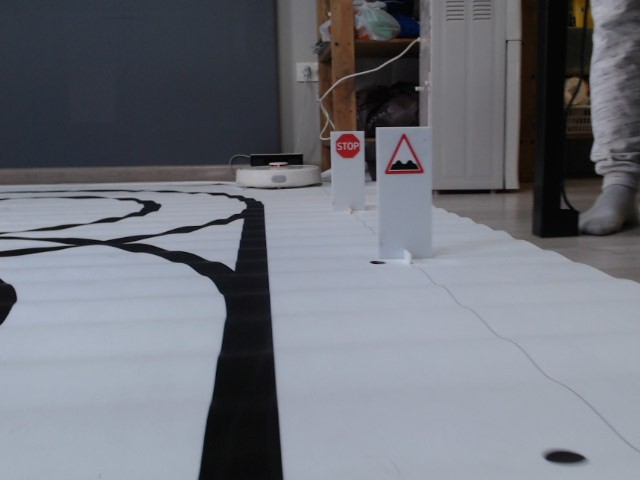Nerov: (379, 134, 427, 178)
Stop: (332, 132, 361, 160)
